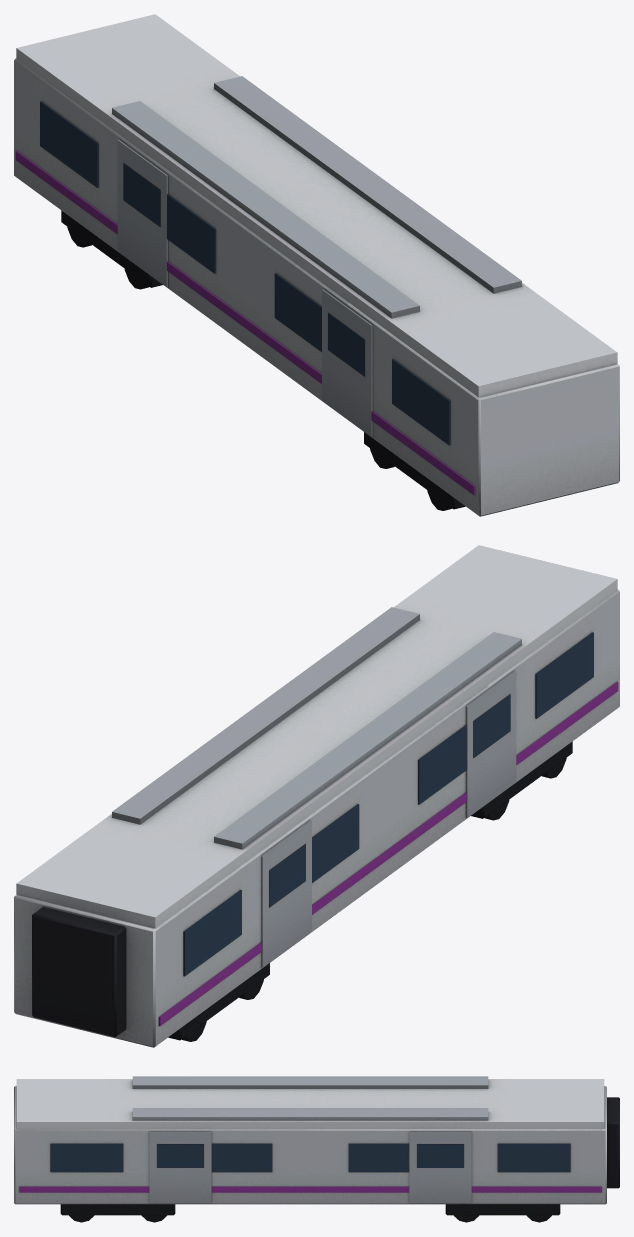
Rendered from coche_metro.glb.
The picture shows the model from 3 angles, top to bottom: view 1: azimuth 30°, elevation 25°; view 2: azimuth 150°, elevation 25°; view 3: azimuth 270°, elevation 25°; orthographic projection. The views are drawn at different scales.
Visible parts, largest first — view 1: coche_metro; view 2: coche_metro; view 3: coche_metro.
Part boxes in pixels (<box>): coche_metro: <box>14,14,619,516</box>; coche_metro: <box>14,545,619,1047</box>; coche_metro: <box>14,1076,619,1222</box>.
Size of the model in its own units: 2.06 by 2.28 by 11.65.
1 material, 1 textured.
